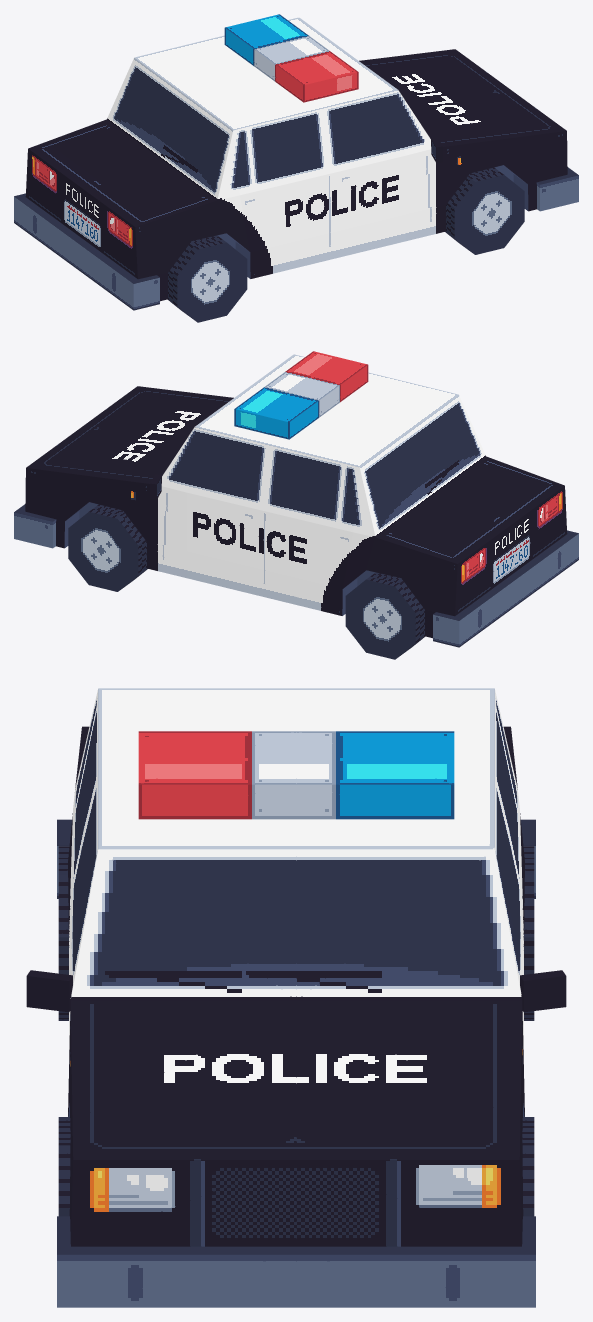
3 renders of one model, top to bottom at view 1: azimuth 30°, elevation 25°; view 2: azimuth 150°, elevation 25°; view 3: azimuth 270°, elevation 25°, orthographic. The views are drawn at different scales.
Parts seen in each view (by area): view 1: Chassis, Siren, WheelBackRight, WheelFrontRight; view 2: Chassis, Siren, WheelBackLeft, WheelFrontLeft; view 3: Chassis, Siren, Mirrors, WheelBackLeft, WheelBackRight, WheelFrontLeft, WheelFrontRight.
Boxes of the visible parts, box(x1,y1,x2,y2) form: Chassis: box(14, 17, 578, 310); Siren: box(224, 14, 358, 102); WheelBackRight: box(167, 235, 247, 322); WheelFrontRight: box(445, 167, 524, 254); Chassis: box(14, 354, 578, 647); Siren: box(234, 351, 368, 439); WheelBackLeft: box(345, 572, 425, 659); WheelFrontLeft: box(68, 504, 147, 591); Chassis: box(57, 688, 535, 1307); Siren: box(138, 731, 454, 819); Mirrors: box(26, 970, 566, 1012); WheelBackLeft: box(523, 846, 534, 1020); WheelBackRight: box(58, 846, 69, 1020); WheelFrontLeft: box(522, 1117, 534, 1216); WheelFrontRight: box(58, 1117, 70, 1216).
Size of the model in its own units: 3.77 by 1.55 by 1.98.
Materials: 1 (1 with a texture image).
